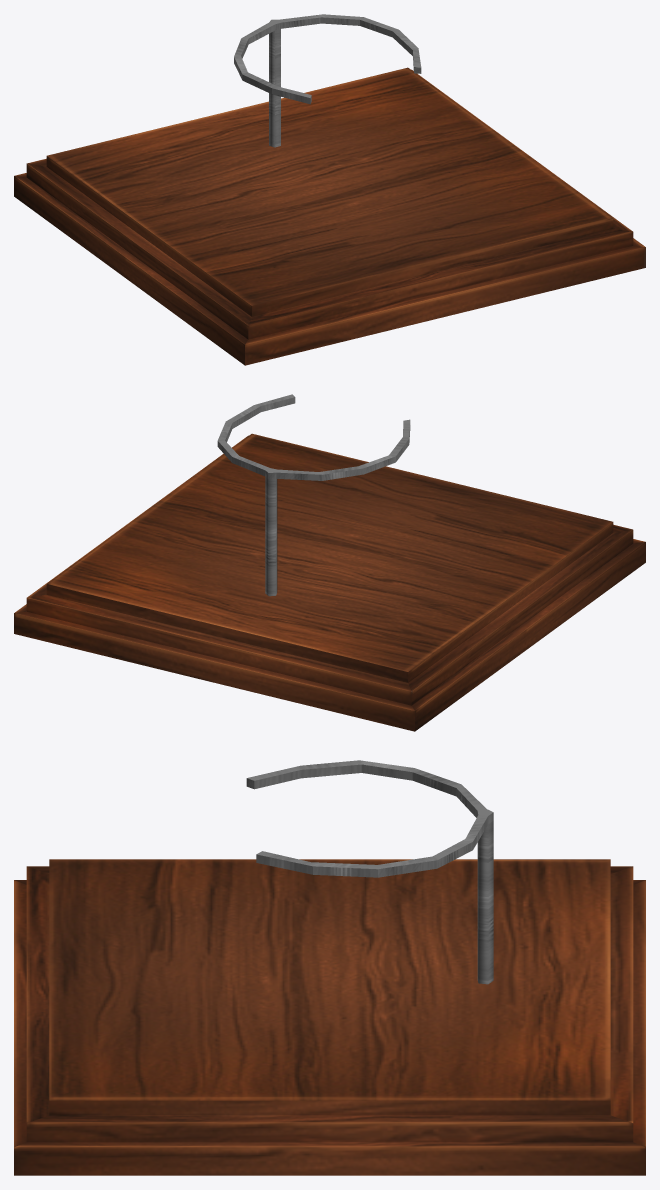
Rendered from Ballvitrine_Podest 1.FBX.
3 renders of one model, top to bottom at view 1: azimuth 30°, elevation 25°; view 2: azimuth 150°, elevation 25°; view 3: azimuth 270°, elevation 25°, orthographic. The views are drawn at different scales.
Parts seen in each view (by area): view 1: Cylinder001; view 2: Cylinder001; view 3: Cylinder001.
Boxes of the visible parts, x1,y1,x2,y2 form: Cylinder001: (14, 14, 645, 365); Cylinder001: (14, 394, 645, 731); Cylinder001: (14, 760, 645, 1175).
Bounding box in the file's own units: 5.82 × 2.44 × 5.81.
